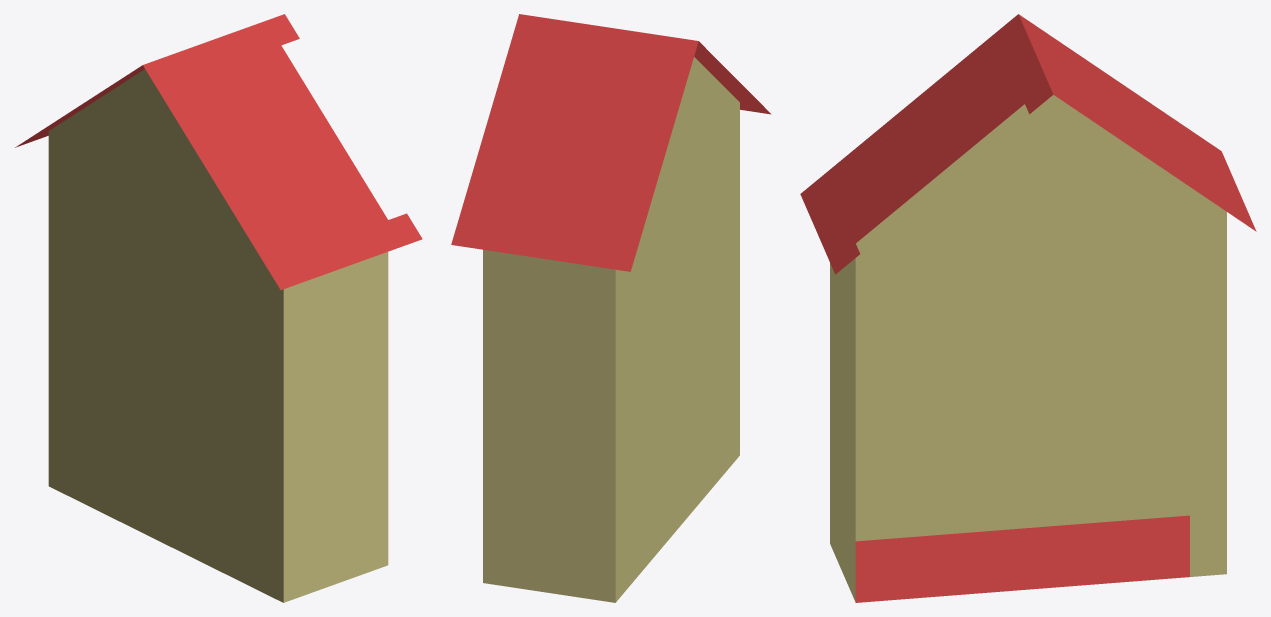
3 views of the same model, side by side, from view 1: azimuth 30°, elevation 25°; view 2: azimuth 150°, elevation 25°; view 3: azimuth 270°, elevation 25° (orthographic). The views are drawn at different scales.
Bounding box in the file's own units: 7.91 × 13.46 × 16.4.
